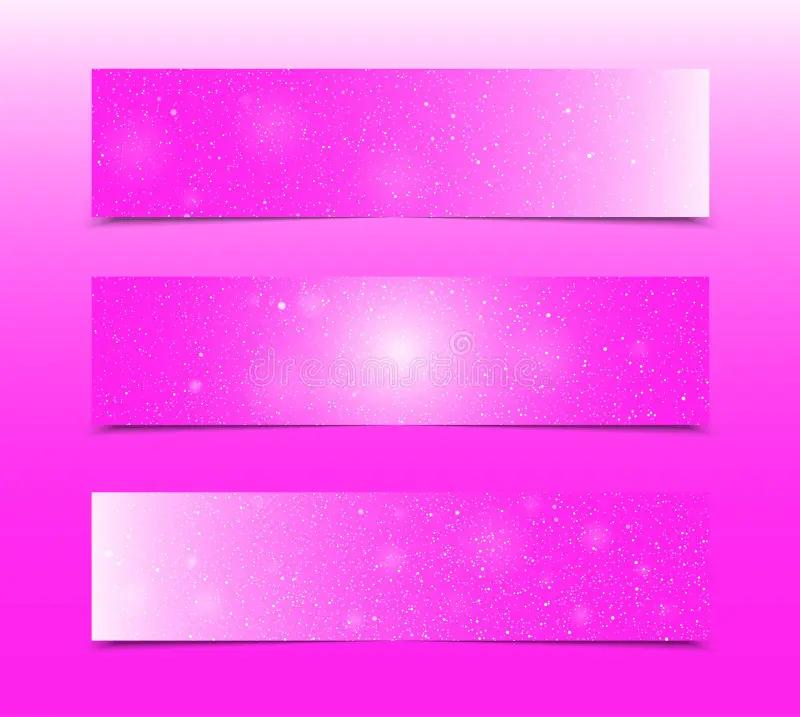pink_zone: (88, 264, 722, 450), (84, 66, 722, 224), (88, 489, 711, 650)
